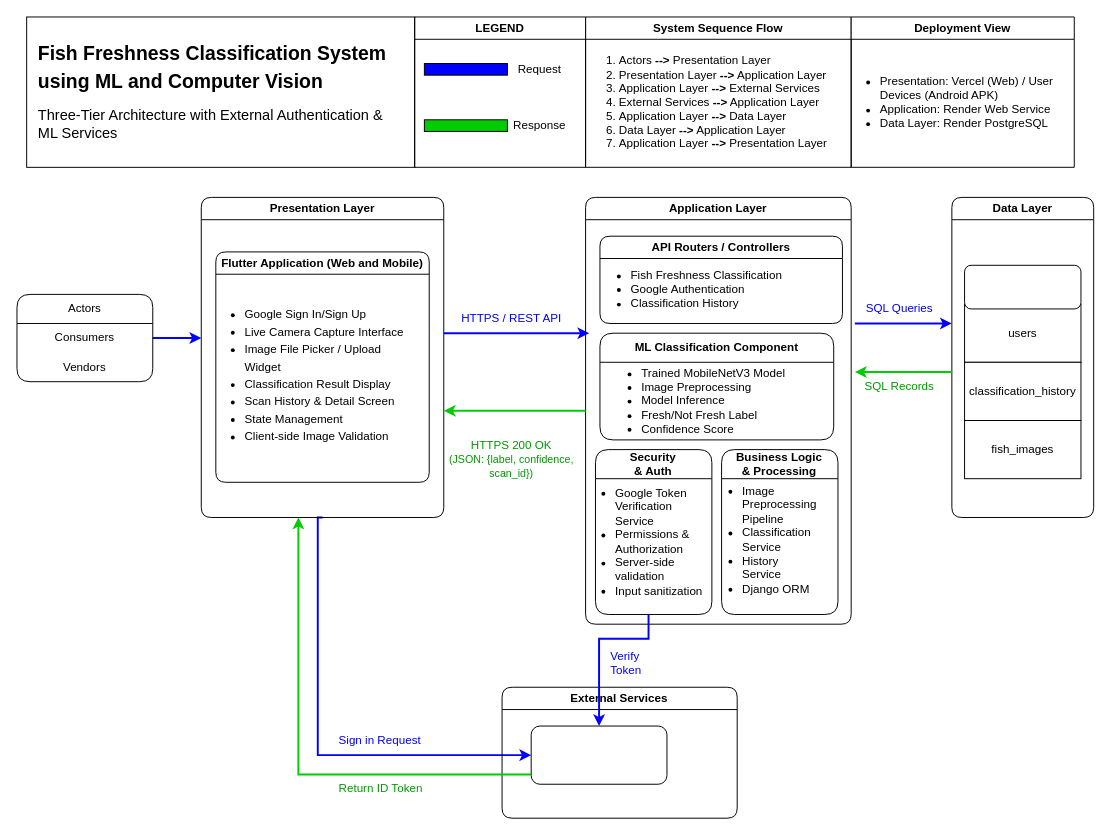
Image size: 1111x835. Some labels were removed from this diagram. The shapes that lost their labels are listed below. From the top down, each one's centre as x and y in pixels, then its label:
point (1022, 286): PostgreSQL Database
point (598, 754): Google OAuth
